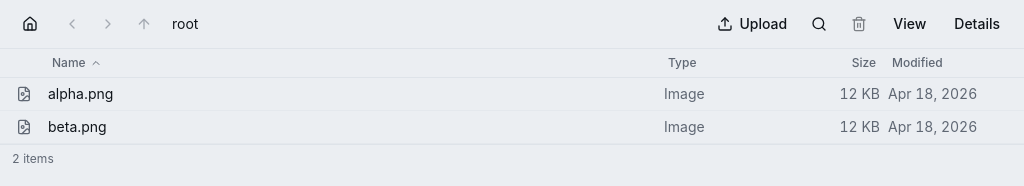
Test: FileExplorer — search UI (Phase 7.1) › clearing the search restores the pre-search selection (even if mutated mid-search)
Later steps or results of the test are not shown.
Click the row with test id "explorer-row" at (512, 94), box x1=0 y1=78 x2=1023 y2=111
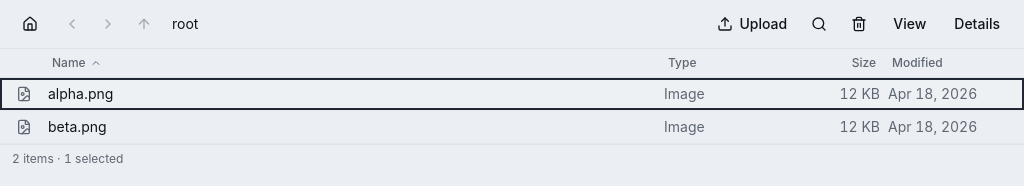
expect the row with test id "explorer-row" is selected: met, box x1=0 y1=78 x2=1023 y2=111
Click the button with test id "file-explorer-search-trigger" at (819, 24), box x1=801 y1=8 x2=837 y2=40
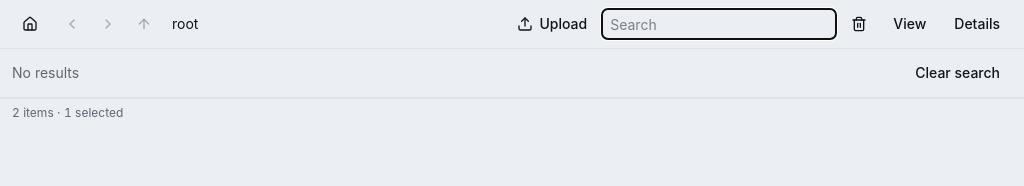
Type "hit" into the search field at (719, 24), box x1=601 y1=8 x2=837 y2=40
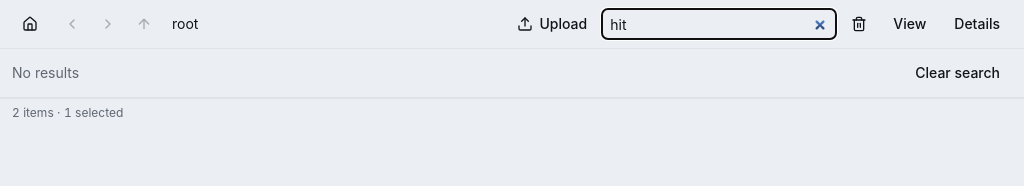
Press Enter in the search field, box x1=601 y1=8 x2=837 y2=40
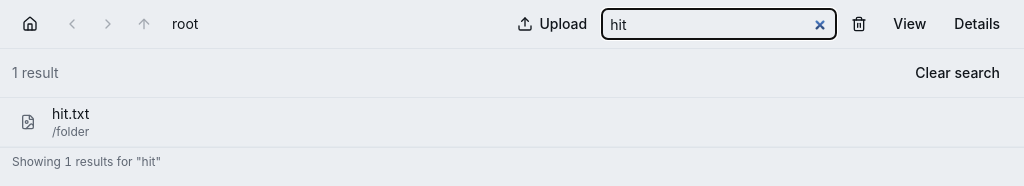
expect the list with test id "file-explorer-search-results" is shown: met, box x1=0 y1=49 x2=1023 y2=147
